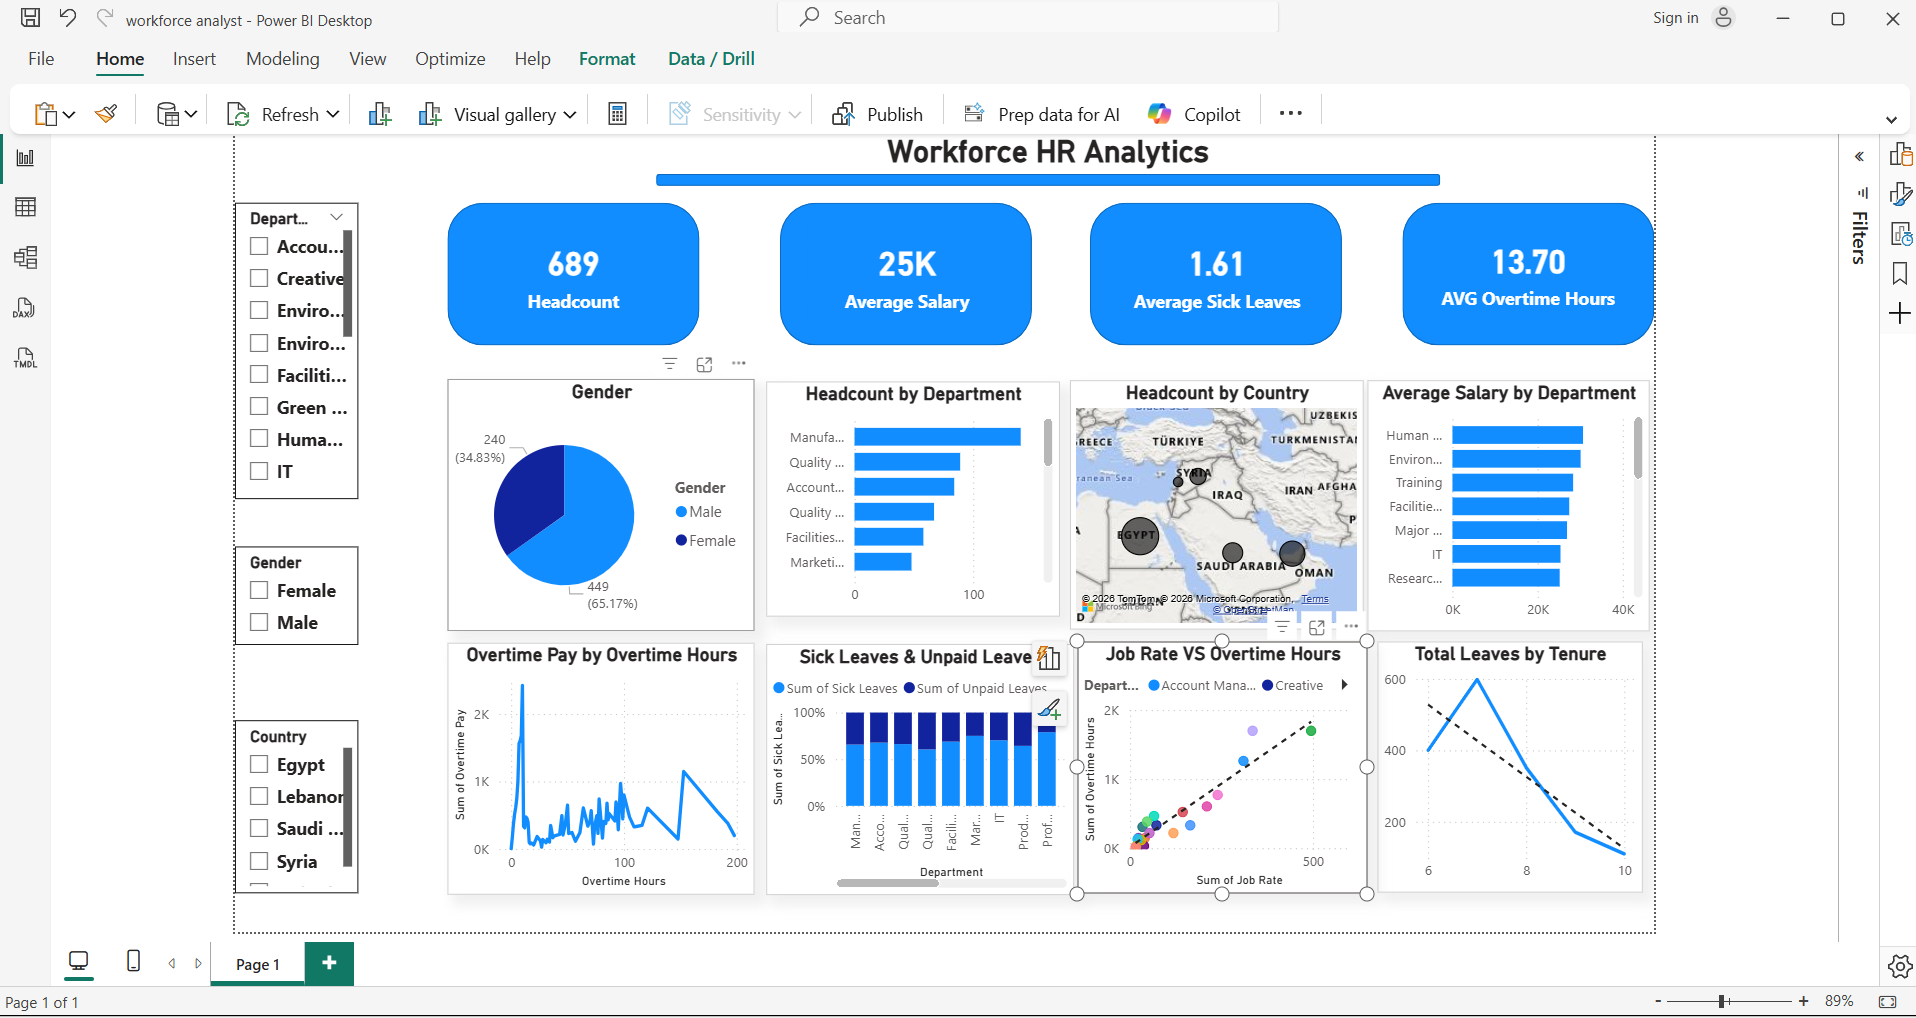

What the dashboard file says about the page in this screenshot:
{"tool":"powerbi","page":{"name":"Page 1","canvas":[1280,720],"ordinal":0},"visuals":[{"type":"slicer","fields":{"Values":["EmpTable.Department"]},"box":[0,61.4,111.4,267.1],"z":0},{"type":"slicer","fields":{"Values":["EmpTable.Country"]},"box":[0,528.6,111.4,155.7],"z":1000},{"type":"slicer","fields":{"Values":["EmpTable.Gender"]},"box":[0,371.4,111.4,88.6],"z":2000},{"type":"shape","box":[191.4,61.4,227.1,128.6],"z":3000},{"type":"shape","box":[491.4,61.4,227.1,128.6],"z":4000},{"type":"shape","box":[771.4,61.4,227.1,128.6],"z":5000},{"type":"shape","box":[1052.9,61.4,227.1,128.6],"z":6000},{"type":"card","fields":{"Values":["measure table.Headcount"]},"box":[215.7,78.6,180,94.3],"z":7000},{"type":"card","fields":{"Values":["measure table.Average Salary"]},"box":[515.7,78.6,180,94.3],"z":8000},{"type":"card","fields":{"Values":["measure table.Average Sick Leaves"]},"box":[795.7,78.6,180,94.3],"z":9000},{"type":"card","fields":{"Values":["measure table.Overtime Hours per Employee"]},"box":[1074.3,78.6,184.3,90],"z":10000},{"type":"pieChart","title":"Gender","fields":{"Category":["EmpTable.Gender"],"Y":["CountNonNull(EmpTable.Gender)"]},"box":[191.4,221.4,277.1,227.1],"z":11000},{"type":"clusteredBarChart","fields":{"Category":["EmpTable.Department"],"Y":["measure table.Headcount"]},"box":[479.3,223.3,264.5,211.9],"z":12000},{"type":"map","fields":{"Category":["EmpTable.Country"],"Size":["measure table.Headcount"]},"box":[752.4,221.9,264.5,224.7],"z":13000},{"type":"barChart","fields":{"Category":["EmpTable.Department"],"Y":["measure table.Average Salary"]},"box":[1021.2,221.9,254.6,226.1],"z":14000},{"type":"lineChart","title":"Overtime Pay by Overtime Hours","fields":{"Category":["EmpTable.Overtime Hours"],"Y":["Sum(EmpTable.Overtime Pay)"]},"box":[191.4,458.6,277.1,227.1],"z":15000},{"type":"hundredPercentStackedColumnChart","title":" Sick Leaves & Unpaid Leaves","fields":{"Category":["EmpTable.Department"],"Y":["Sum(EmpTable.Sick Leaves)","Sum(EmpTable.Unpaid Leaves)"]},"box":[479.3,459.4,277.3,226.1],"z":16000},{"type":"scatterChart","title":"Job Rate VS Overtime Hours ","fields":{"X":["Sum(EmpTable.Job Rate)"],"Y":["Sum(EmpTable.Overtime Hours)"],"Series":["EmpTable.Department"]},"box":[759.5,458,261.7,227.6],"z":17000},{"type":"lineChart","title":"Total Leaves by Tenure","fields":{"Category":["EmpTable.Tenure"],"Y":["Sum(EmpTable.Total Leaves)"]},"box":[1029.7,458,238.9,226.1],"z":18000},{"type":"shape","title":"Workforce HR Analytics","box":[379.7,0,706.8,46.9],"z":19000}]}

Visuals, with their boxes on the page's 1280x720 design canvas (x1, y1, x2, y2). These are canvas units, not pixel positions in the 1916x1018 screenshot, which may show the page scaled, cropped or inside an application window:
slicer - EmpTable.Department: rect(0, 61, 111, 328)
slicer - EmpTable.Country: rect(0, 529, 111, 684)
slicer - EmpTable.Gender: rect(0, 371, 111, 460)
shape: rect(191, 61, 418, 190)
shape: rect(491, 61, 718, 190)
shape: rect(771, 61, 998, 190)
shape: rect(1053, 61, 1280, 190)
card - measure table.Headcount: rect(216, 79, 396, 173)
card - measure table.Average Salary: rect(516, 79, 696, 173)
card - measure table.Average Sick Leaves: rect(796, 79, 976, 173)
card - measure table.Overtime Hours per Employee: rect(1074, 79, 1259, 169)
"Gender" pieChart: rect(191, 221, 468, 448)
clusteredBarChart - EmpTable.Department x measure table.Headcount: rect(479, 223, 744, 435)
map - EmpTable.Country x measure table.Headcount: rect(752, 222, 1017, 447)
barChart - EmpTable.Department x measure table.Average Salary: rect(1021, 222, 1276, 448)
"Overtime Pay by Overtime Hours" lineChart: rect(191, 459, 468, 686)
" Sick Leaves & Unpaid Leaves" hundredPercentStackedColumnChart: rect(479, 459, 757, 686)
"Job Rate VS Overtime Hours " scatterChart: rect(760, 458, 1021, 686)
"Total Leaves by Tenure" lineChart: rect(1030, 458, 1269, 684)
"Workforce HR Analytics" shape: rect(380, 0, 1086, 47)
